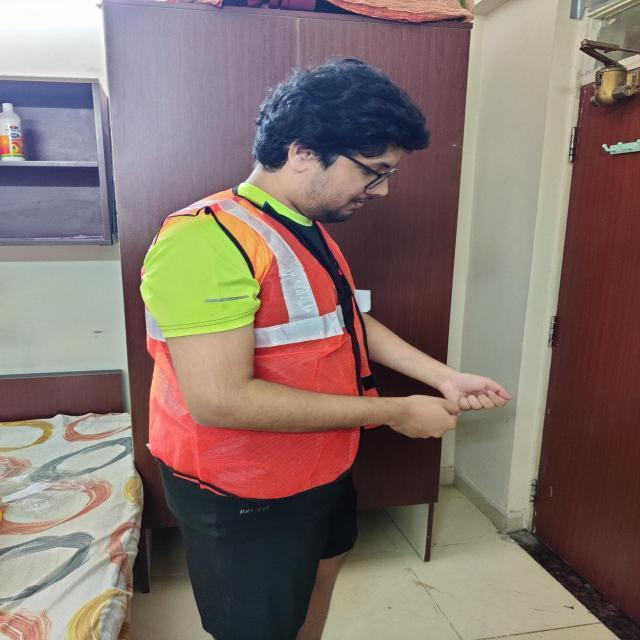no-helmet: (270, 57, 438, 187)
vest: (144, 191, 382, 507)
